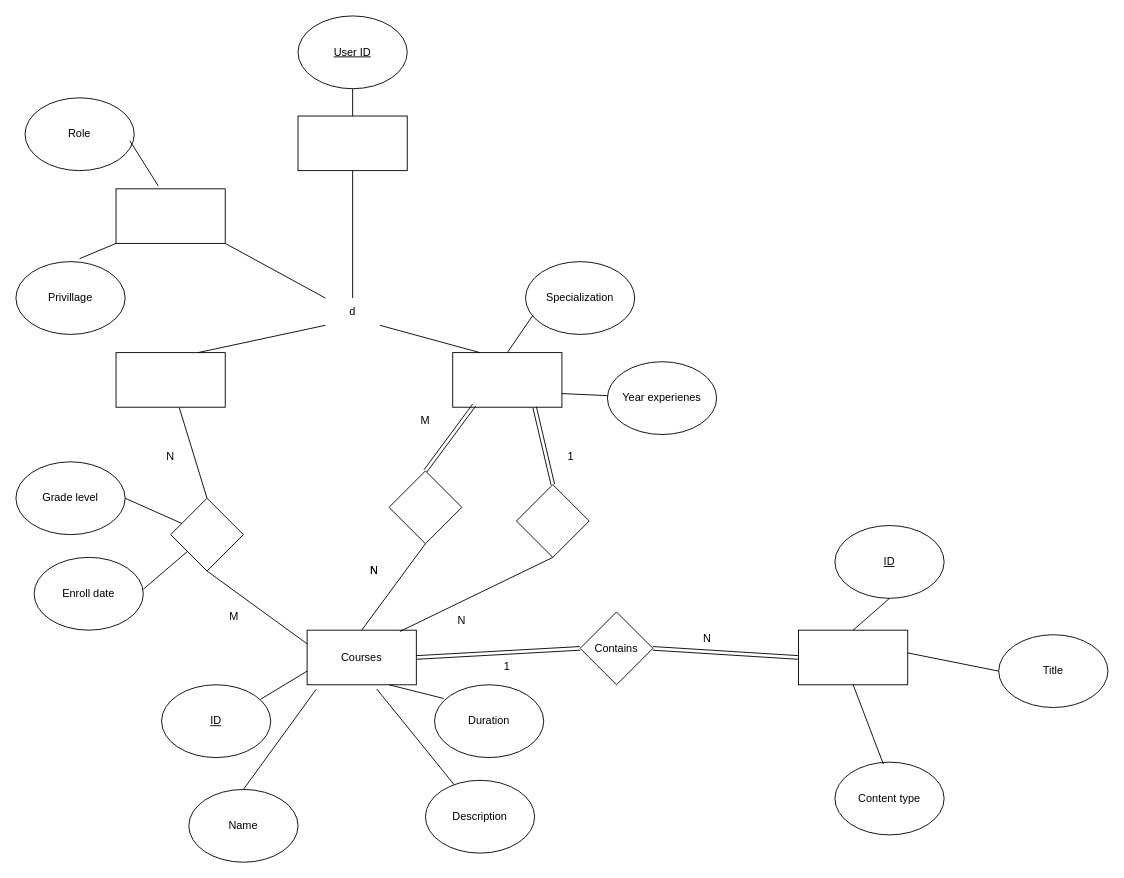
Some shapes in this 1124 by 878 pixel diagram are drawn without their labels. The shapes that lost their labels are listed below. From the top down, each one's centre as x and y in pixels, then its label:
At point 352,143: "USERS".
At point 170,215: "Admin".
At point 170,379: "Students".
At point 507,379: "Instructors".
At point 425,507: "Create".
At point 552,520: "Teach".
At point 206,534: "Enroll".
At point 853,657: "Lessons".
